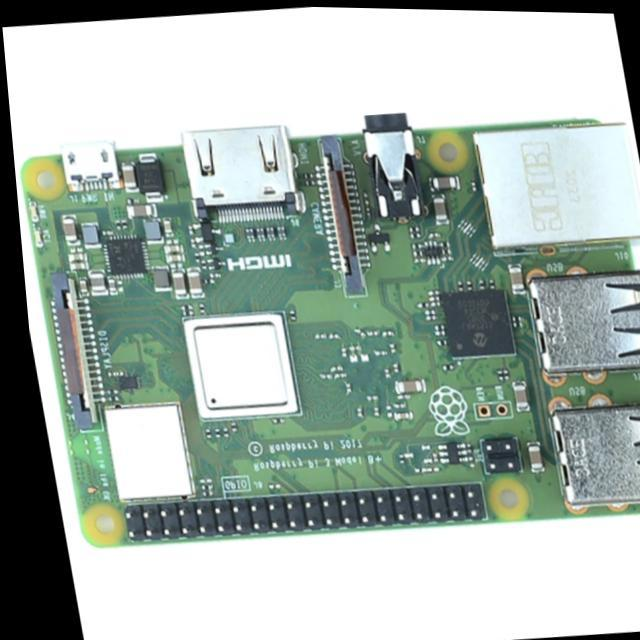Raspberry Pi 3 B-: (21, 114, 640, 548)
